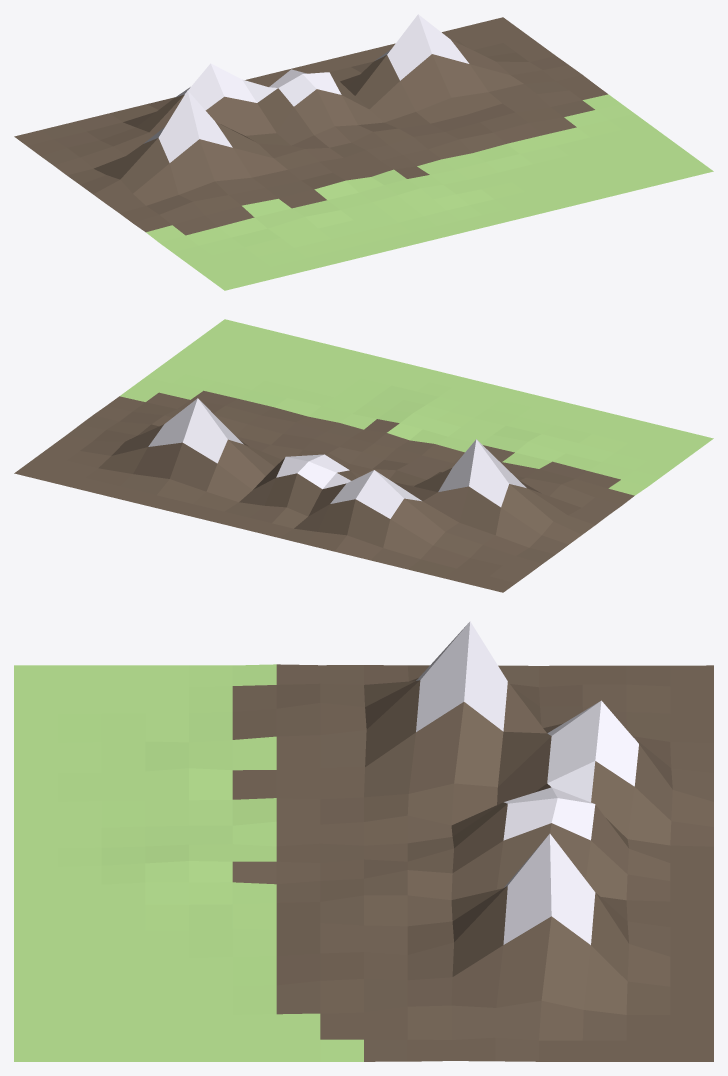
File: mountain_medium.glb
3 views of the same model, one above another, from view 1: azimuth 30°, elevation 25°; view 2: azimuth 150°, elevation 25°; view 3: azimuth 270°, elevation 25° (orthographic). The views are drawn at different scales.
Parts seen in each view (by area): view 1: Sahne; view 2: Sahne; view 3: Sahne.
Part boxes in pixels (x1=…): Sahne: x1=14, y1=14, x2=713, y2=290; Sahne: x1=14, y1=319, x2=713, y2=592; Sahne: x1=14, y1=621, x2=713, y2=1061.
Size of the model in its own units: 53.6 by 7.94 by 40.
